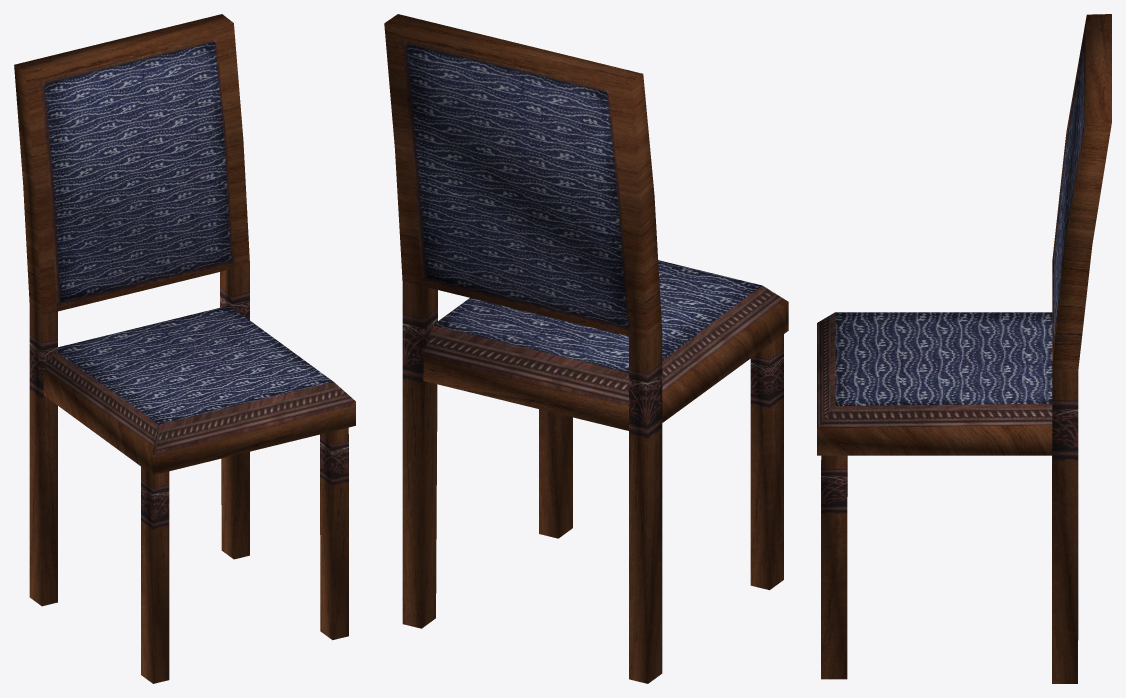
The model's file is Chair01.FBX.
The picture shows the model from 3 angles, left to right: view 1: azimuth 30°, elevation 25°; view 2: azimuth 150°, elevation 25°; view 3: azimuth 270°, elevation 25°; orthographic projection. The views are drawn at different scales.
Parts seen in each view (by area): view 1: Chair01; view 2: Chair01; view 3: Chair01.
Boxes of the visible parts, box(x1,y1,x2,y2) form: Chair01: box(14, 14, 355, 683); Chair01: box(384, 14, 788, 683); Chair01: box(817, 14, 1111, 683).
Size of the model in its own units: 21.52 by 51.46 by 24.52.
